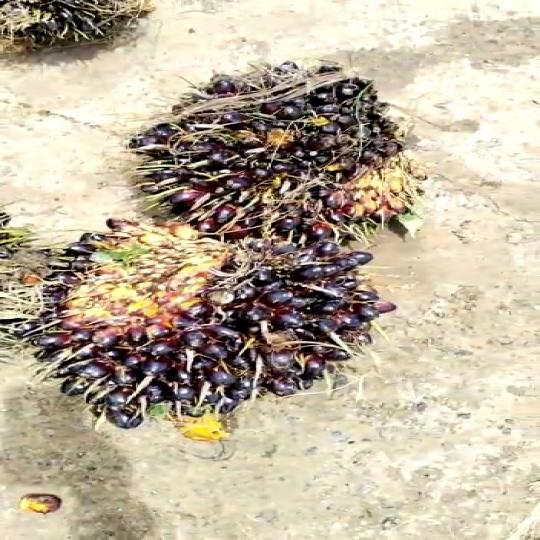mentah: (32, 211, 406, 428), (139, 54, 432, 248)
